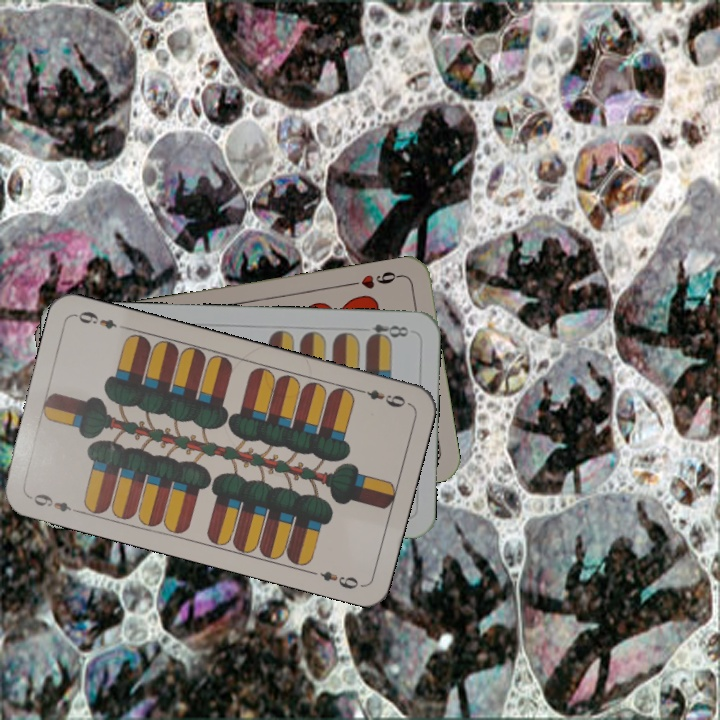E8: (363, 320, 412, 344)
E9: (25, 489, 83, 516), (353, 384, 411, 410)
H9: (345, 267, 404, 292)
